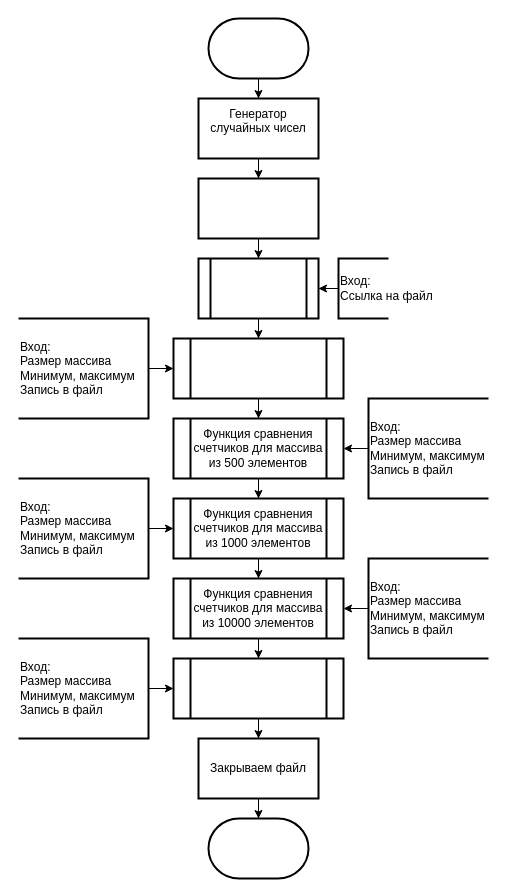
Image size: 506x896. Some labels were removed from this diagram. The box of each missing label's shape, as (x1, y1, x2, y2) in pixels:
Начало: (207, 17, 309, 79)
Открытие файла для записи: (197, 177, 319, 239)
Функция записи результатов в файл: (197, 257, 319, 319)
Функция сравнения счетчиков для массива из 15 элементов: (172, 337, 344, 399)
Функция сравнения счетчиков для массива из 50000 элементов: (172, 657, 344, 719)
